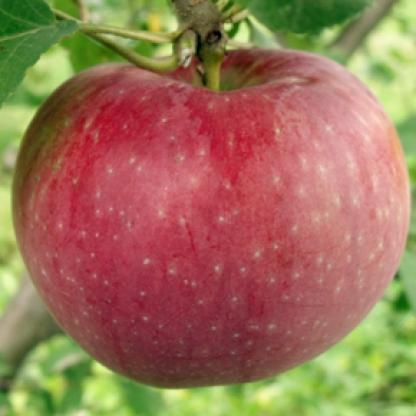apple: (6, 43, 410, 395)
